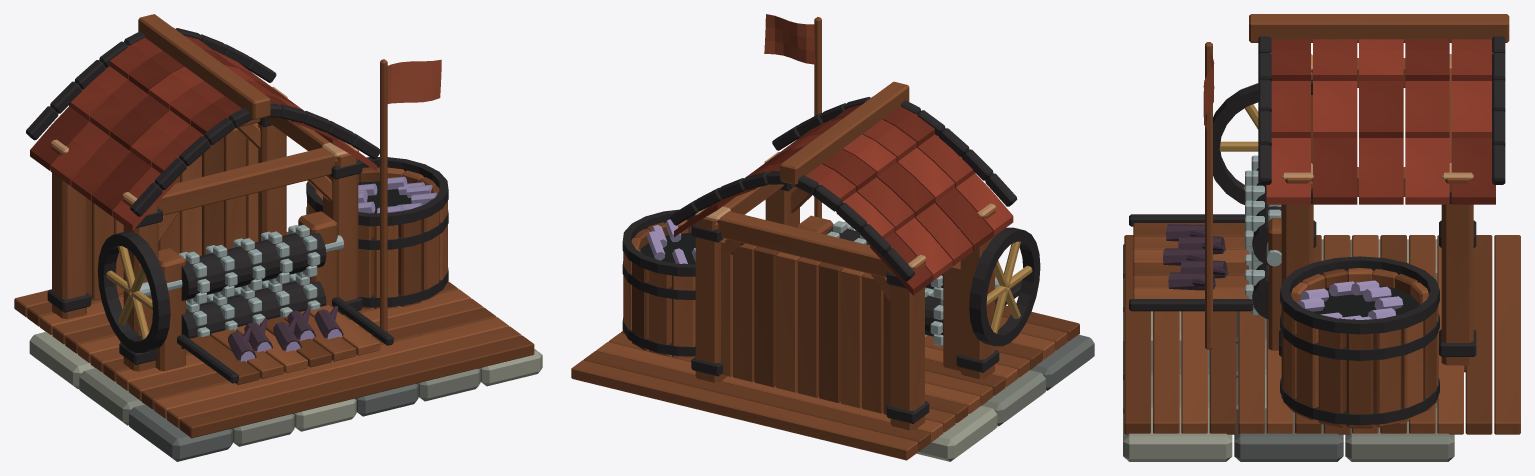
3 views of the same model, side by side, from view 1: azimuth 30°, elevation 25°; view 2: azimuth 150°, elevation 25°; view 3: azimuth 270°, elevation 25° (orthographic). The views are drawn at different scales.
Visible parts, largest first — view 1: Rootbound Hall · evaluated preview mesh; view 2: Rootbound Hall · evaluated preview mesh; view 3: Rootbound Hall · evaluated preview mesh.
Part boxes in pixels (x1,y1,x2,y2): Rootbound Hall · evaluated preview mesh: (14, 14, 542, 461); Rootbound Hall · evaluated preview mesh: (571, 14, 1094, 461); Rootbound Hall · evaluated preview mesh: (1123, 14, 1520, 461).
Bounding box in the file's own units: 5.38 × 4.4 × 4.48.
